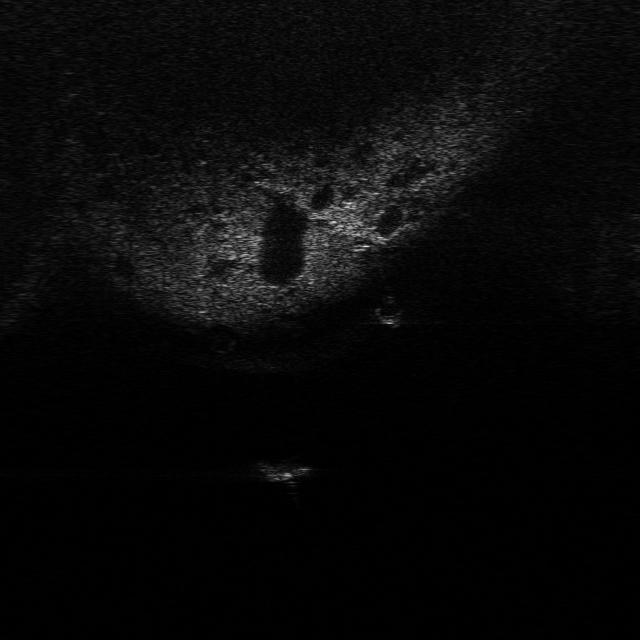ball: (370, 294, 416, 328)
cube: (258, 457, 314, 489)
